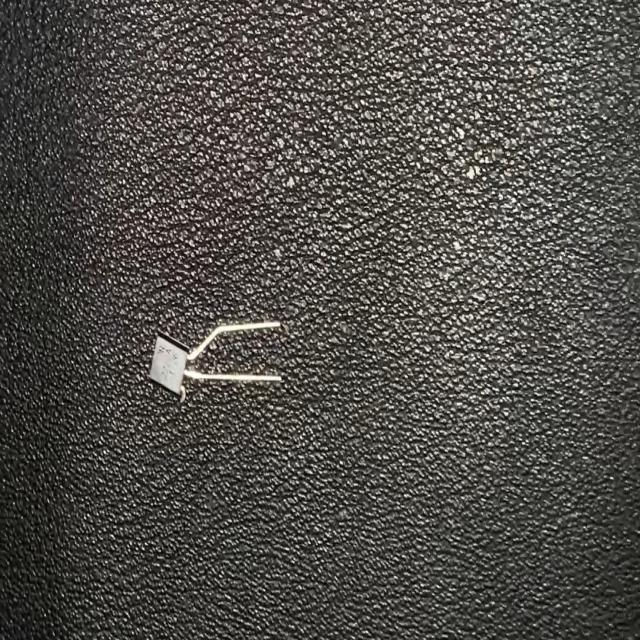missing-leg: (148, 317, 284, 406)
